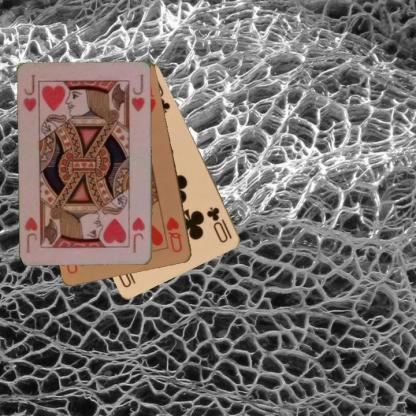10c: (204, 204, 234, 244)
Jh: (21, 72, 38, 113), (130, 215, 146, 255)
Qh: (164, 214, 184, 254)
